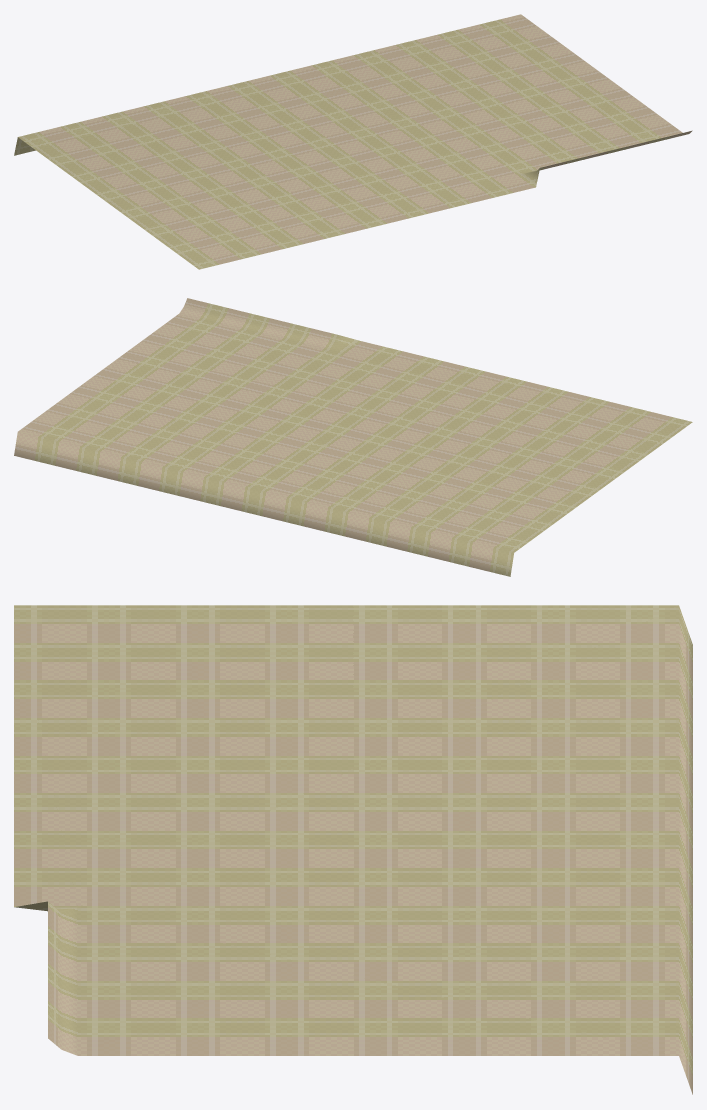
File: kd_stage_135d18_4_76.glb
3 views of the same model, one above another, from view 1: azimuth 30°, elevation 25°; view 2: azimuth 150°, elevation 25°; view 3: azimuth 270°, elevation 25° (orthographic). The views are drawn at different scales.
Parts seen in each view (by area): view 1: kd_stage_135d18_4_76; view 2: kd_stage_135d18_4_76; view 3: kd_stage_135d18_4_76.
Part boxes in pixels (box(x1,y1,x2,y2)): kd_stage_135d18_4_76: box(14, 14, 692, 269); kd_stage_135d18_4_76: box(14, 298, 692, 576); kd_stage_135d18_4_76: box(14, 605, 692, 1094).
Bounding box in the file's own units: 1.19 × 0.0705 × 0.7577.
Materials: 1 (1 with a texture image).
